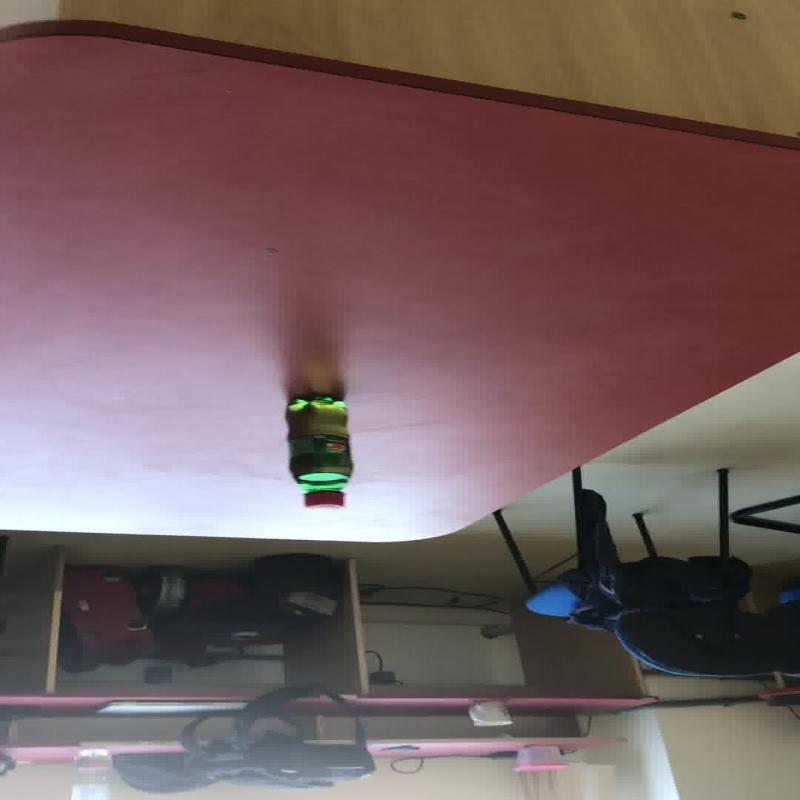guarana: (282, 394, 354, 508)
